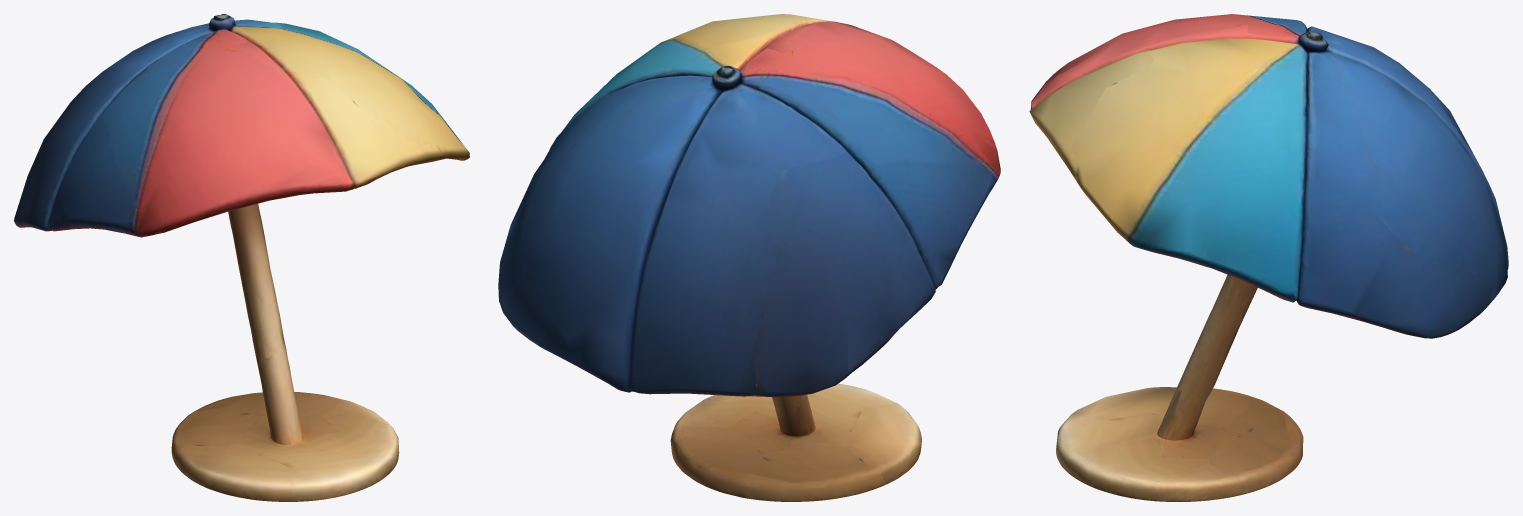
Rendered from parasol_pbr.glb.
The picture shows the model from 3 angles, left to right: view 1: azimuth 30°, elevation 25°; view 2: azimuth 150°, elevation 25°; view 3: azimuth 270°, elevation 25°; orthographic projection. The views are drawn at different scales.
Parts seen in each view (by area): view 1: model.013; view 2: model.013; view 3: model.013.
Part boxes in pixels (<box>): model.013: <box>14,14,469,501</box>; model.013: <box>498,14,1000,501</box>; model.013: <box>1029,14,1508,501</box>.
Bounding box in the file's own units: 1.35 × 1.37 × 1.43.
Materials: 1 (1 with a texture image).
